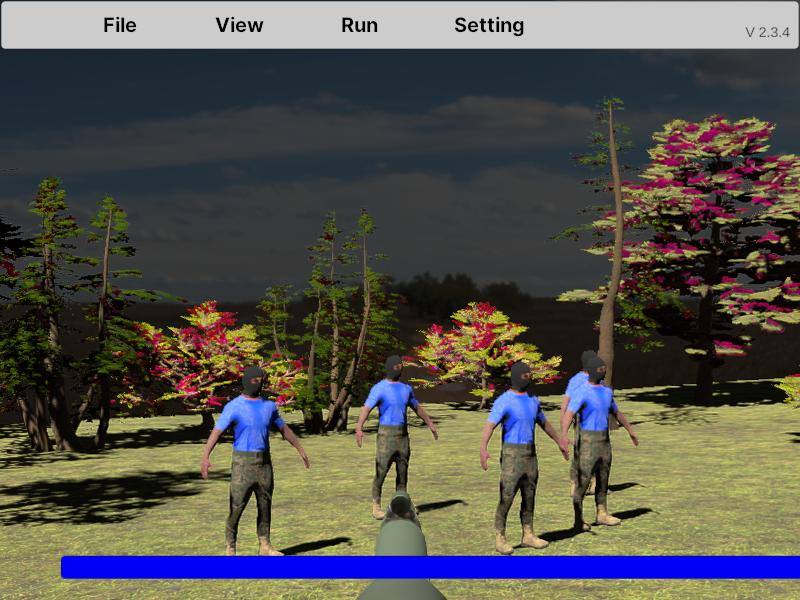Human: (201, 365, 310, 560), (479, 361, 568, 556), (356, 354, 438, 520), (562, 356, 639, 532)
